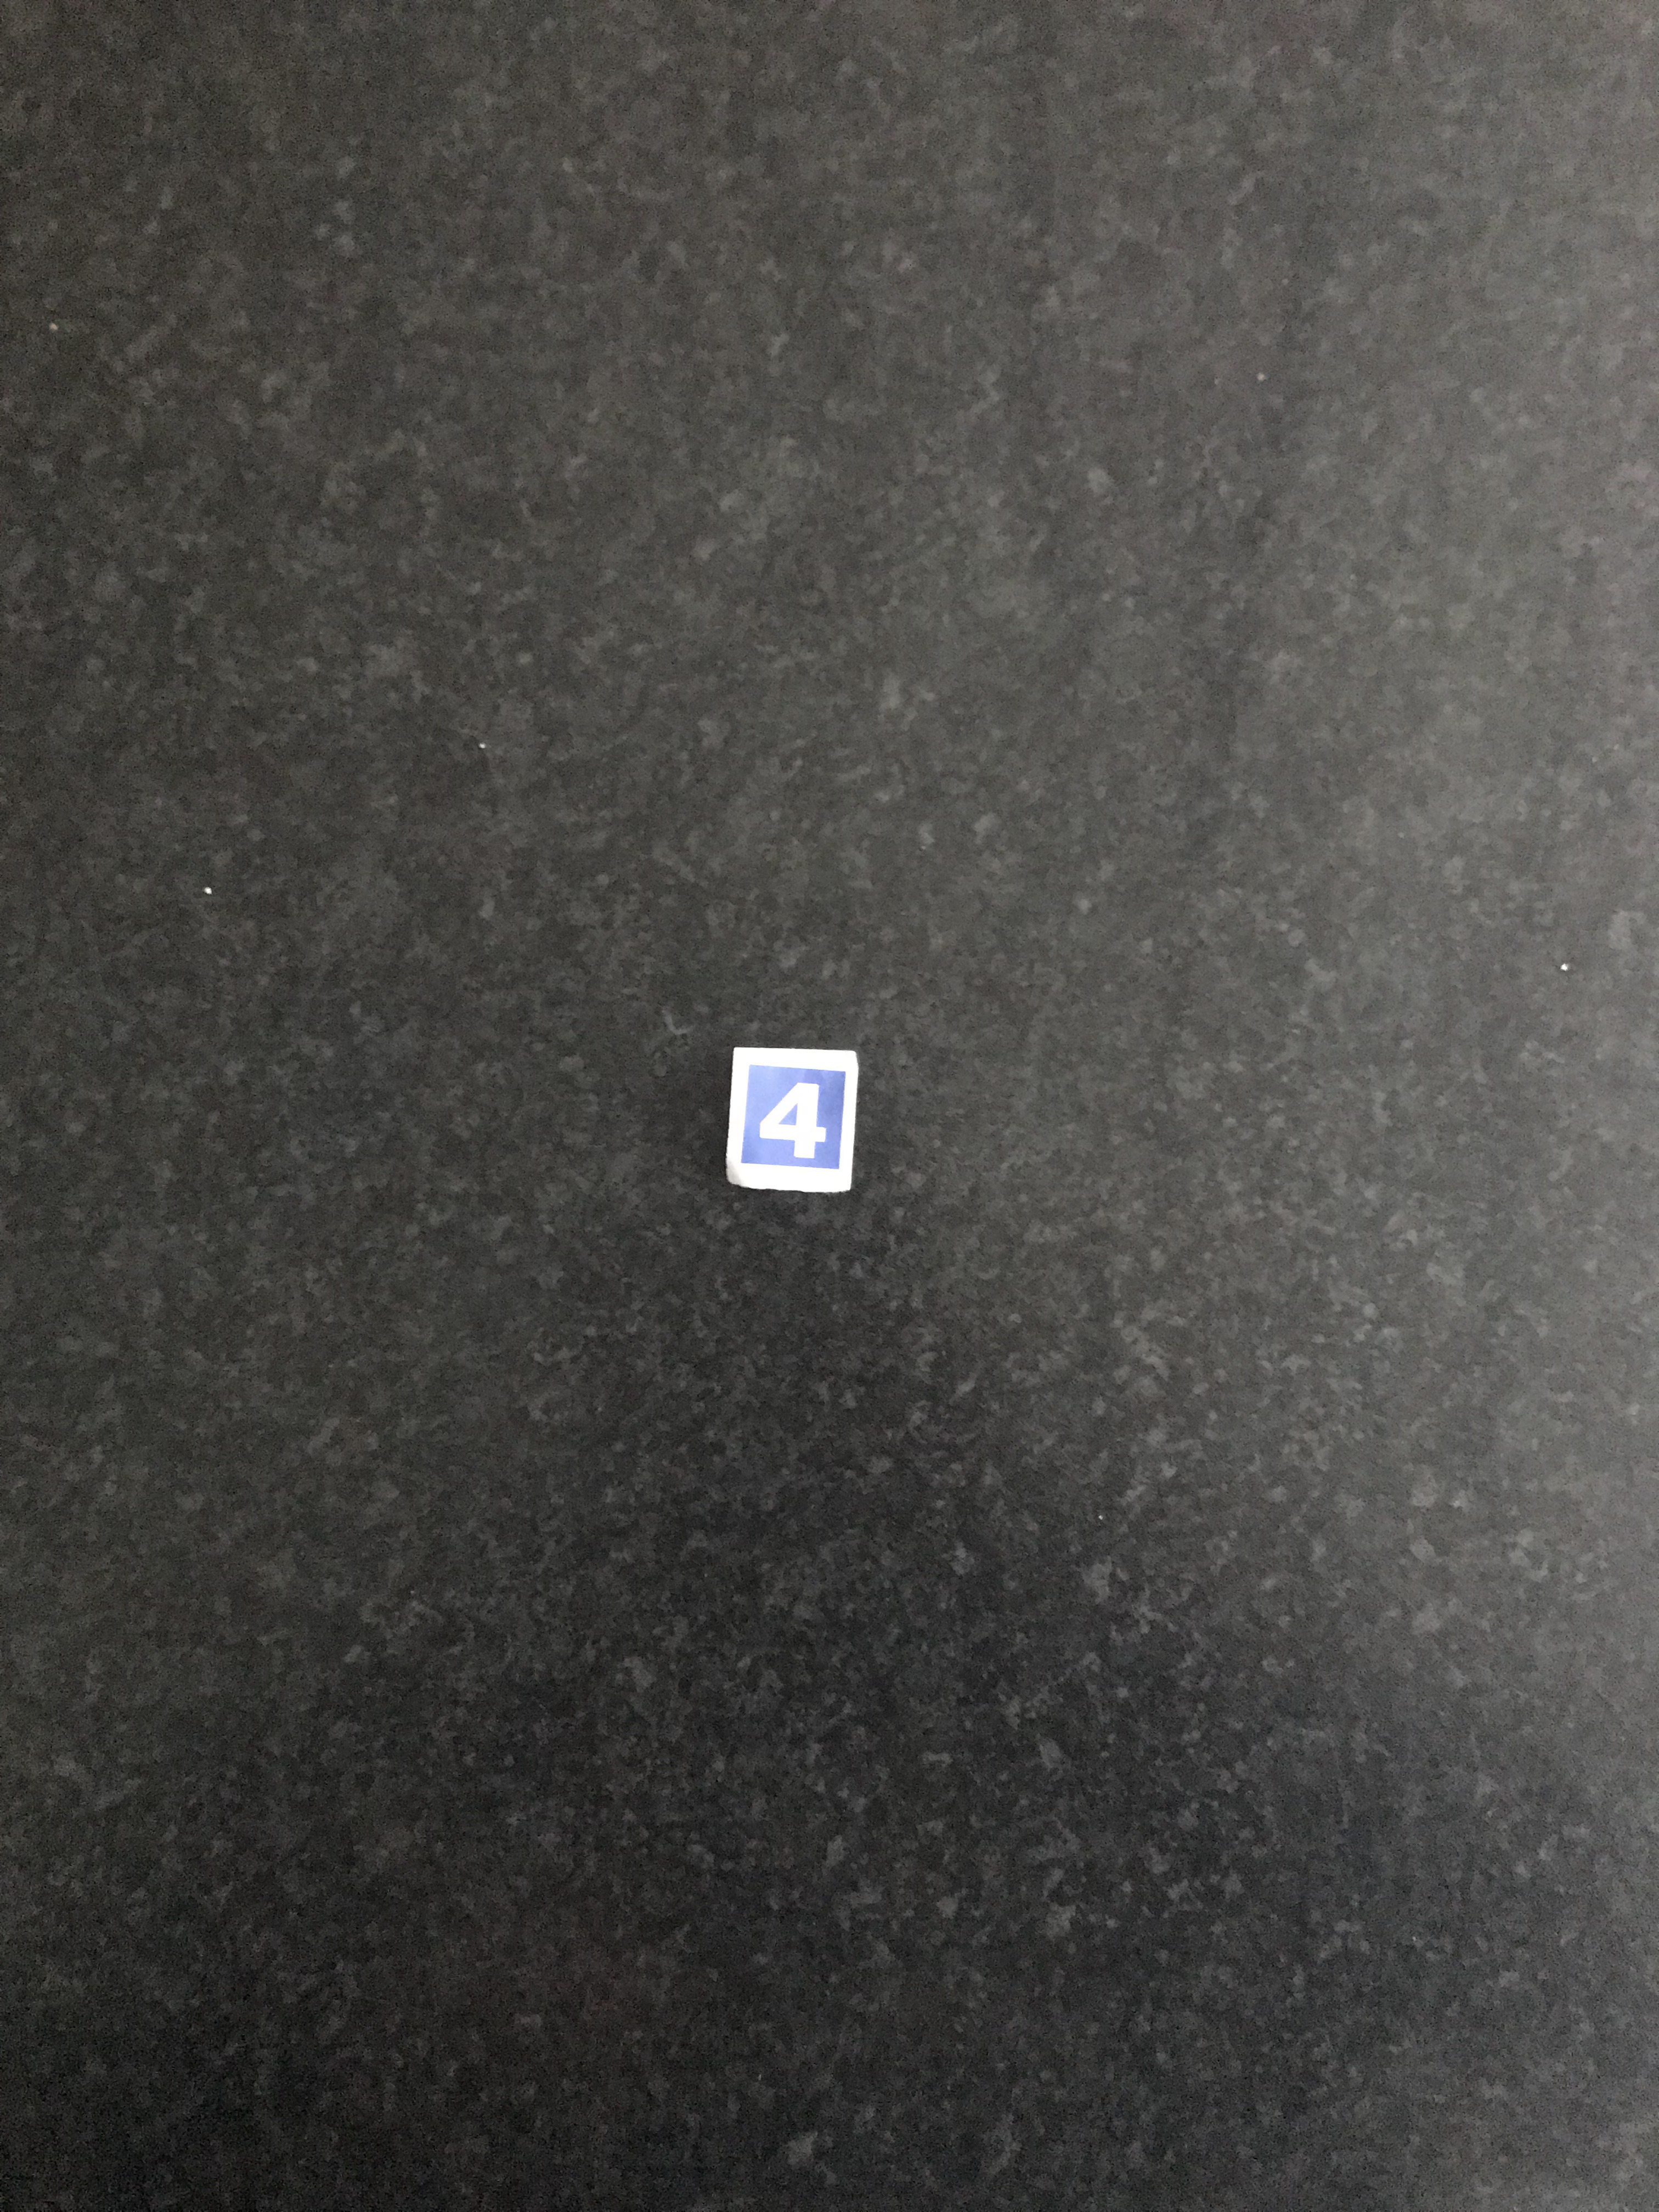blue marker: (711, 1038, 875, 1202)
